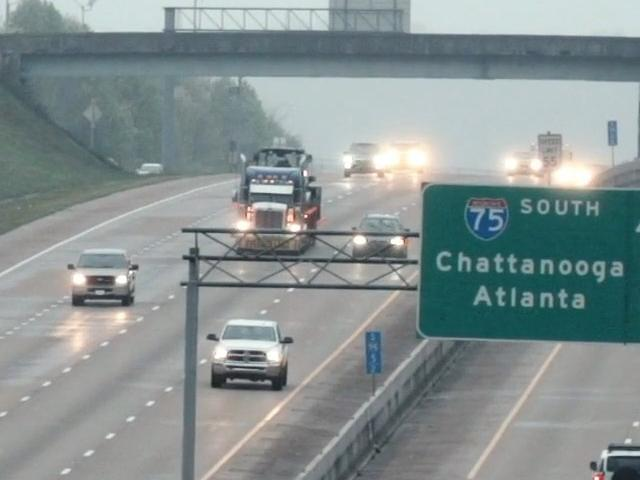car: (208, 320, 297, 387), (343, 208, 410, 272), (68, 252, 143, 308), (586, 440, 640, 480), (341, 141, 386, 178), (388, 143, 430, 174), (504, 151, 545, 181)
truck: (235, 142, 325, 267)
